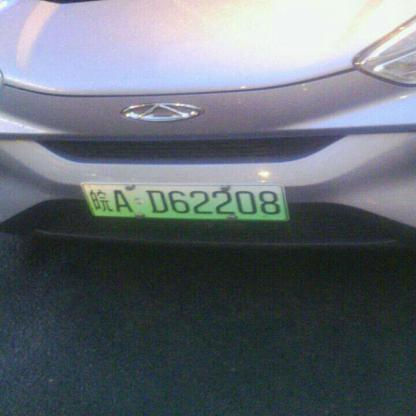lp: (81, 184, 286, 218)
